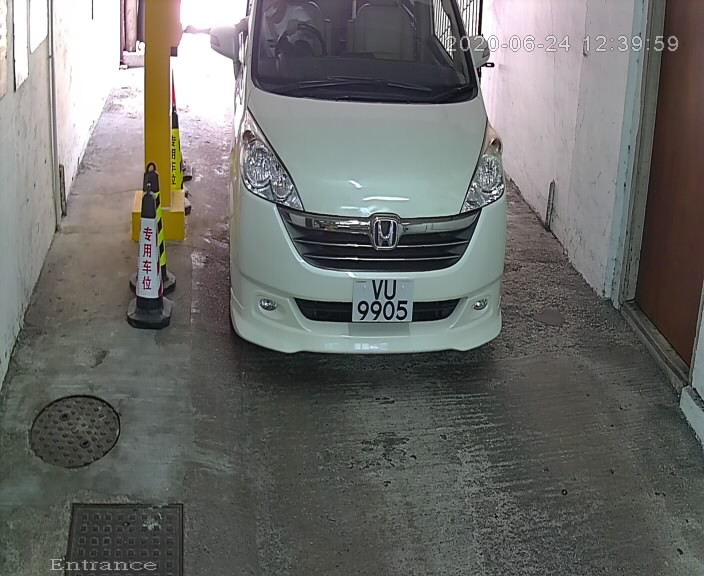Car: (185, 1, 560, 397)
License Plate: (347, 277, 415, 332)
